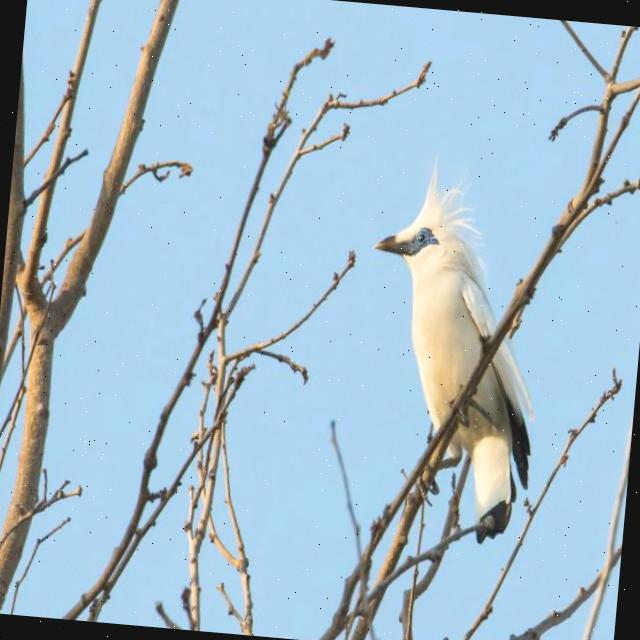Jalak Bali: (334, 141, 567, 551), (336, 144, 567, 548)
